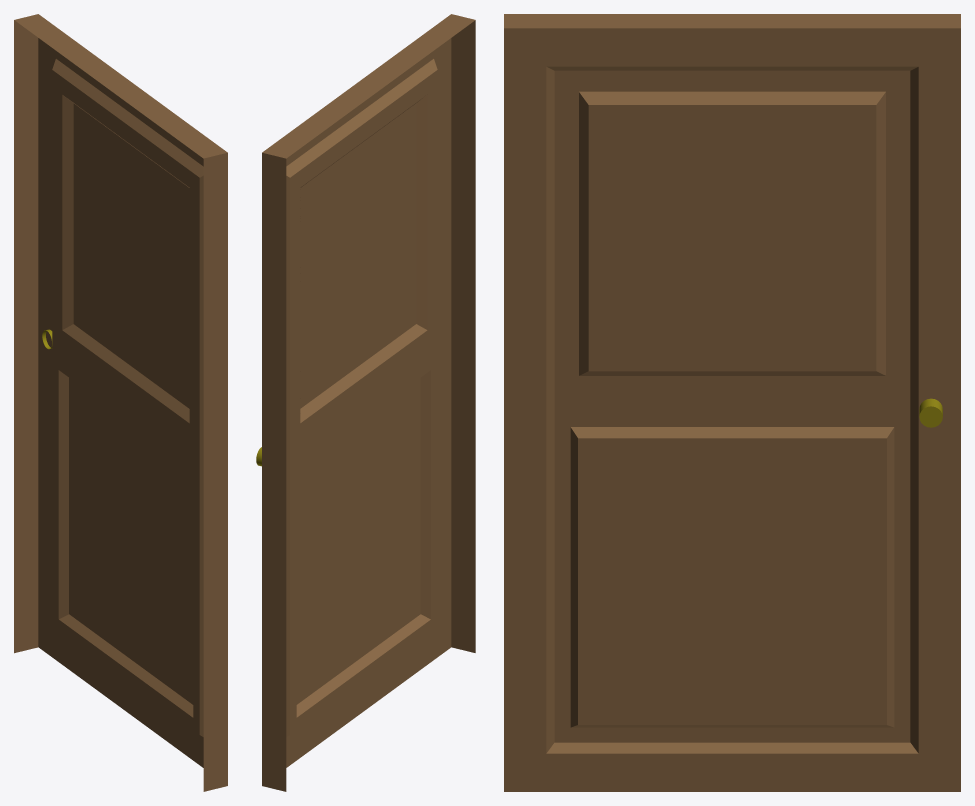
The model's file is Door.fbx.
3 views of the same model, side by side, from view 1: azimuth 30°, elevation 25°; view 2: azimuth 150°, elevation 25°; view 3: azimuth 270°, elevation 25° (orthographic). The views are drawn at different scales.
Parts seen in each view (by area): view 1: Door_base; view 2: Door_base; view 3: Door_base.
Boxes of the visible parts, x1,y1,x2,y2 form: Door_base: (14, 14, 227, 791); Door_base: (262, 14, 475, 791); Door_base: (504, 14, 960, 791).
Size of the model in its own units: 0.9925 by 15.95 by 8.65.
